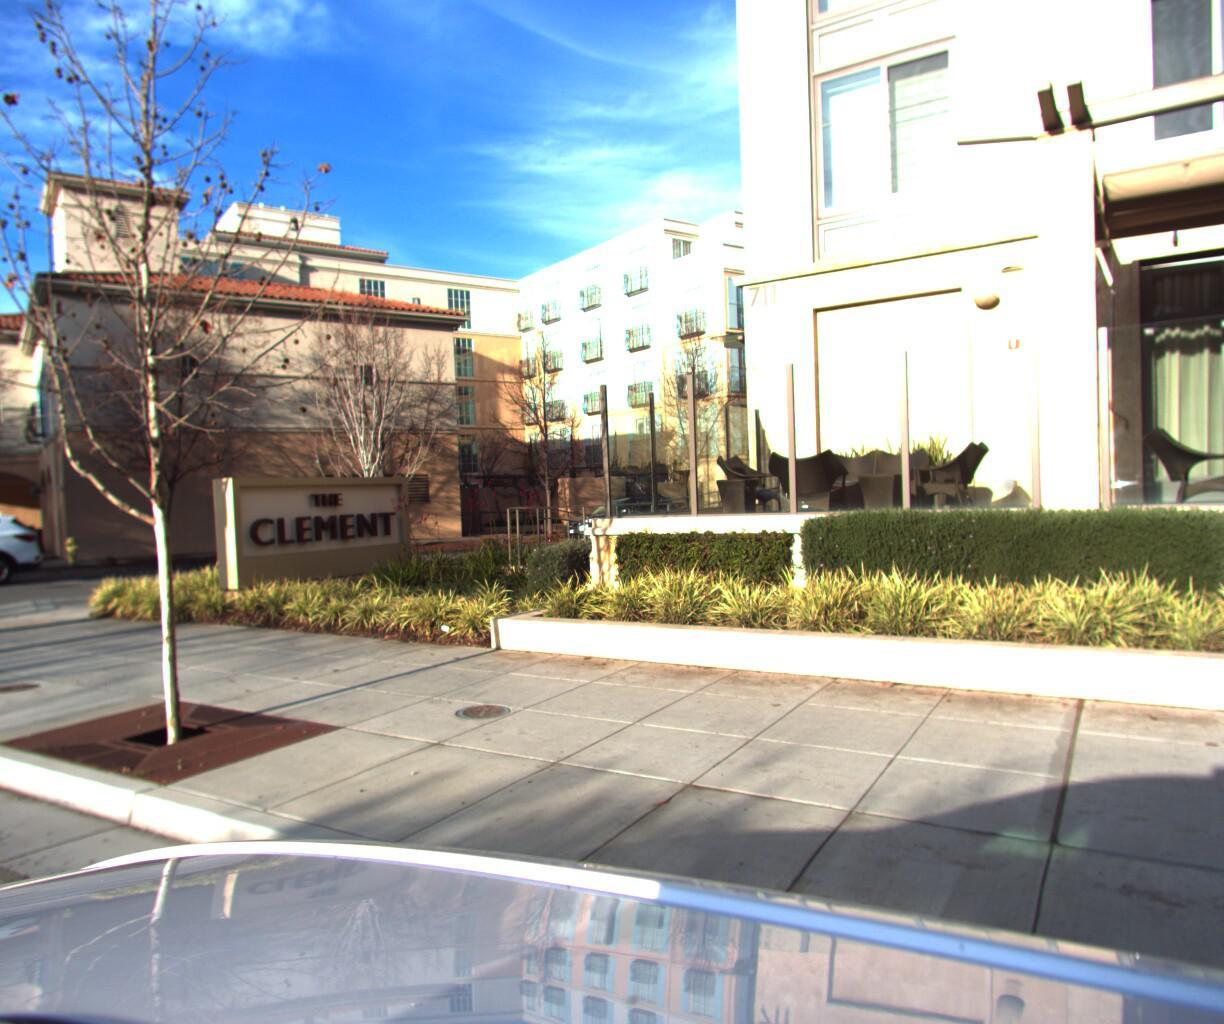car: (553, 490, 683, 542), (0, 502, 43, 602)
